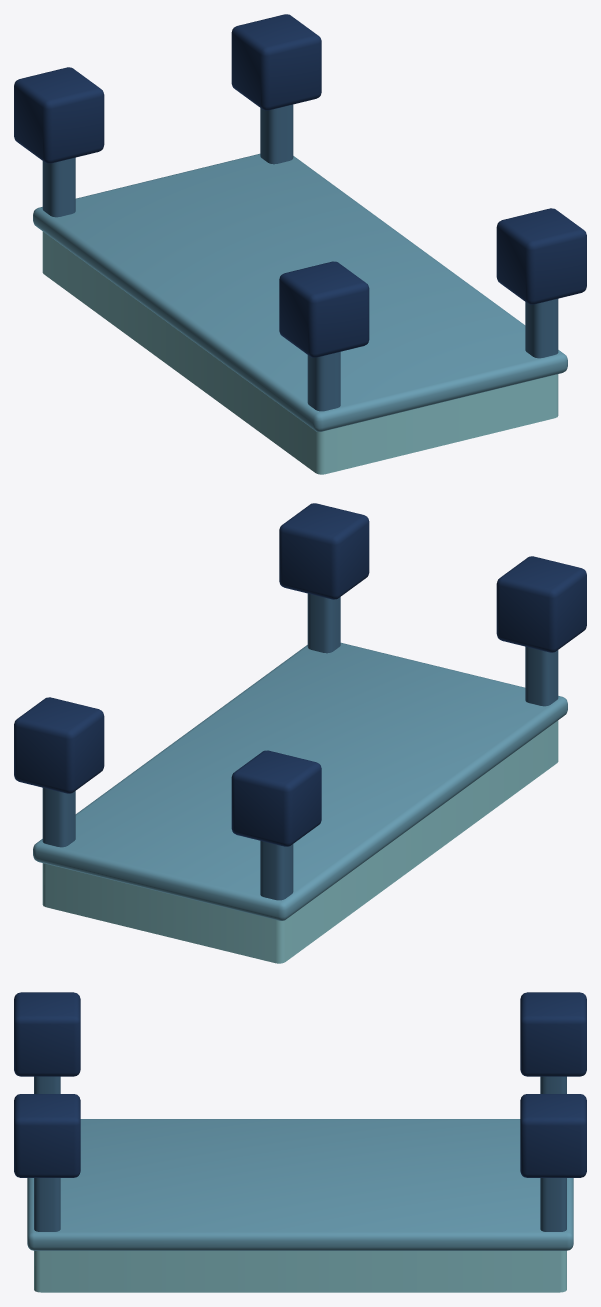
File: GroundCastle.fbx
The picture shows the model from 3 angles, top to bottom: view 1: azimuth 30°, elevation 25°; view 2: azimuth 150°, elevation 25°; view 3: azimuth 270°, elevation 25°; orthographic projection. The views are drawn at different scales.
Visible parts, largest first — view 1: GroundCastle; view 2: GroundCastle; view 3: GroundCastle.
Part boxes in pixels (box(x1,y1,x2,y2)): GroundCastle: box(14, 14, 586, 474); GroundCastle: box(14, 503, 586, 963); GroundCastle: box(14, 992, 586, 1292).
Bounding box in the file's own units: 920 × 600 × 1720.
